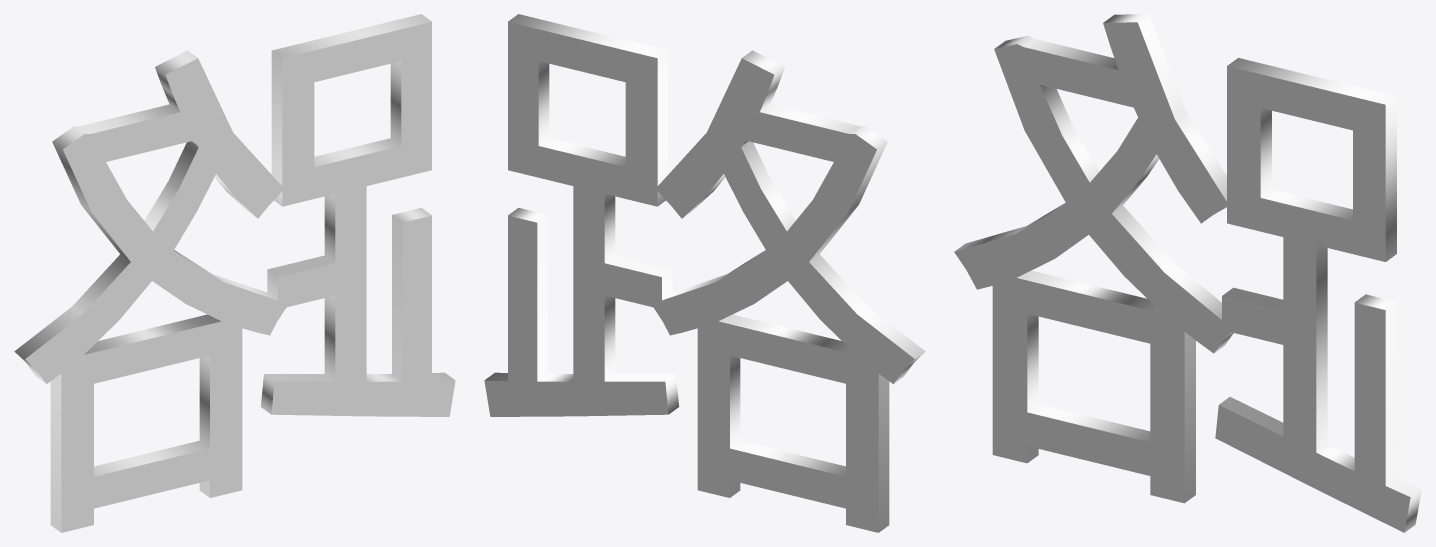
The picture shows the model from 3 angles, left to right: view 1: azimuth 30°, elevation 25°; view 2: azimuth 150°, elevation 25°; view 3: azimuth 330°, elevation 25°; orthographic projection. The views are drawn at different scales.
Parts seen in each view (by area): view 1: テキスト; view 2: テキスト; view 3: テキスト.
Boxes of the visible parts, box(x1,y1,x2,y2) form: テキスト: box(14, 14, 455, 532); テキスト: box(484, 14, 925, 532); テキスト: box(954, 14, 1421, 532).
Size of the model in its own units: 0.935 by 0.919 by 0.04.
1 material, 1 textured.
